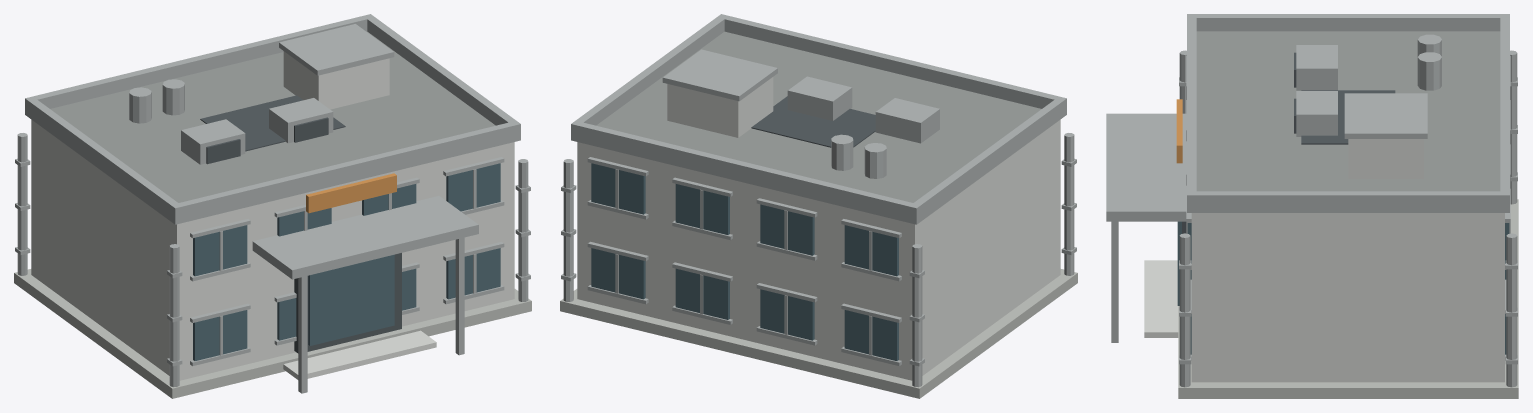
The model's file is canteen.glb.
The picture shows the model from 3 angles, left to right: view 1: azimuth 30°, elevation 25°; view 2: azimuth 150°, elevation 25°; view 3: azimuth 270°, elevation 25°; orthographic projection. The views are drawn at different scales.
Visible parts, largest first — view 1: canteen; view 2: canteen; view 3: canteen.
Part boxes in pixels (bbox=[...]): canteen: bbox=[14, 14, 531, 398]; canteen: bbox=[560, 14, 1077, 398]; canteen: bbox=[1106, 14, 1518, 398].
Size of the model in its own units: 3.66 by 2.11 by 3.38.
